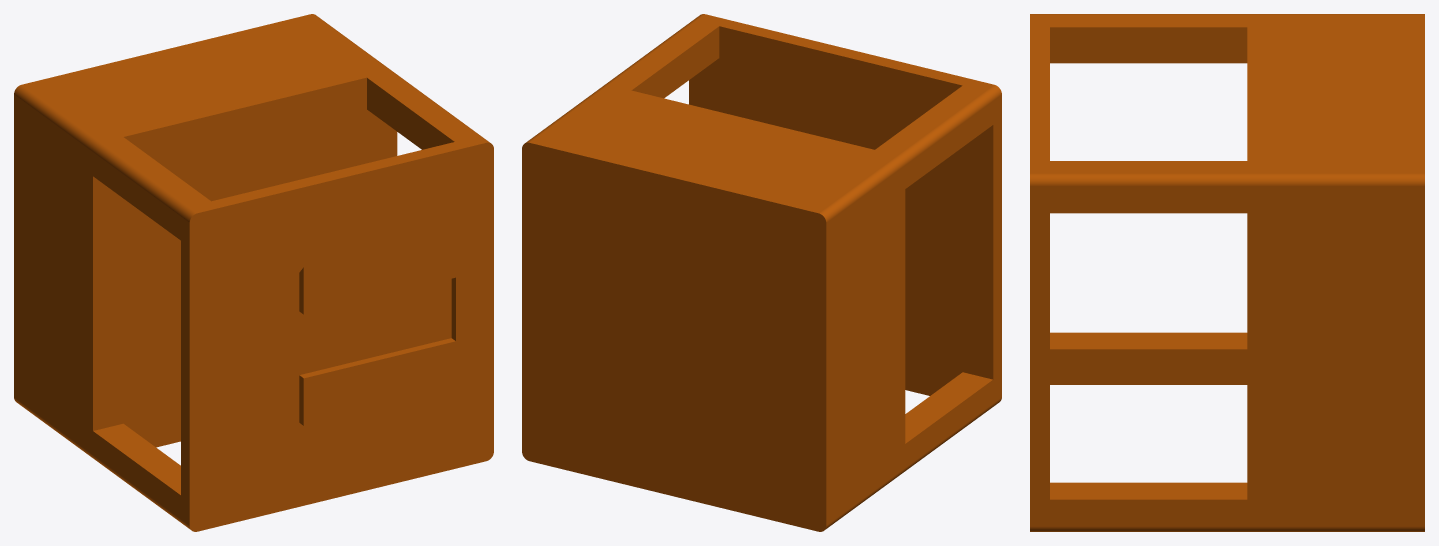
Rendered from chassis.dae.
The picture shows the model from 3 angles, left to right: view 1: azimuth 30°, elevation 25°; view 2: azimuth 150°, elevation 25°; view 3: azimuth 270°, elevation 25°; orthographic projection. The views are drawn at different scales.
Visible parts, largest first — view 1: chassis, _ncl1_3; view 2: chassis; view 3: chassis.
Part boxes in pixels (x1,y1,x2,y2): chassis: (14,14,493,531); _ncl1_3: (228,267,455,425); chassis: (522,14,1001,531); chassis: (1030,14,1424,531).
Bounding box in the file's own units: 0.4 × 0.4 × 0.4.
